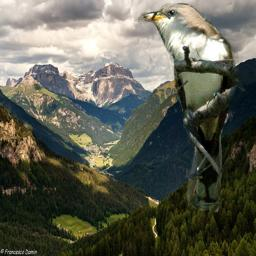Cuckoo: (138, 3, 239, 212)
